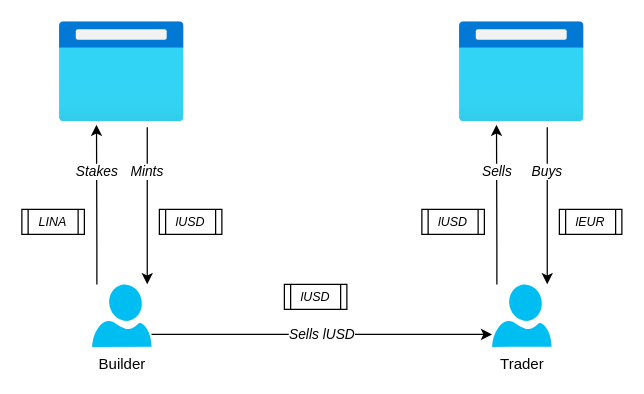
The diagram is 644 pixels wide and 394 high, and some of its shapes have lost their labels. The centre of each missing label's shape, as x and y in pixels:
Buildr: pixel 121 71
Exchange: pixel 521 71
